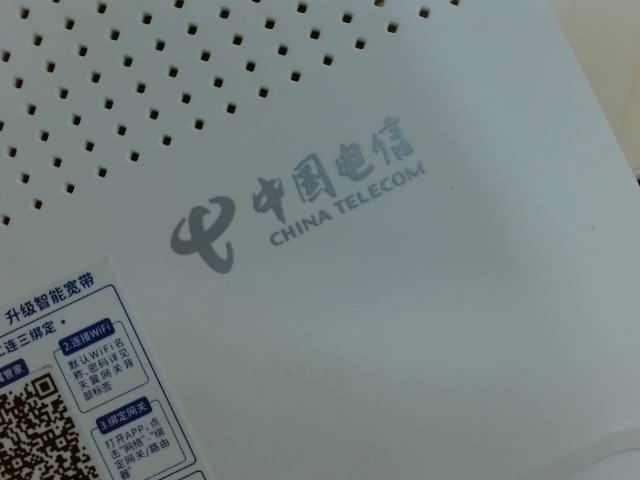ChinaTelecom1: (133, 114, 474, 289)
